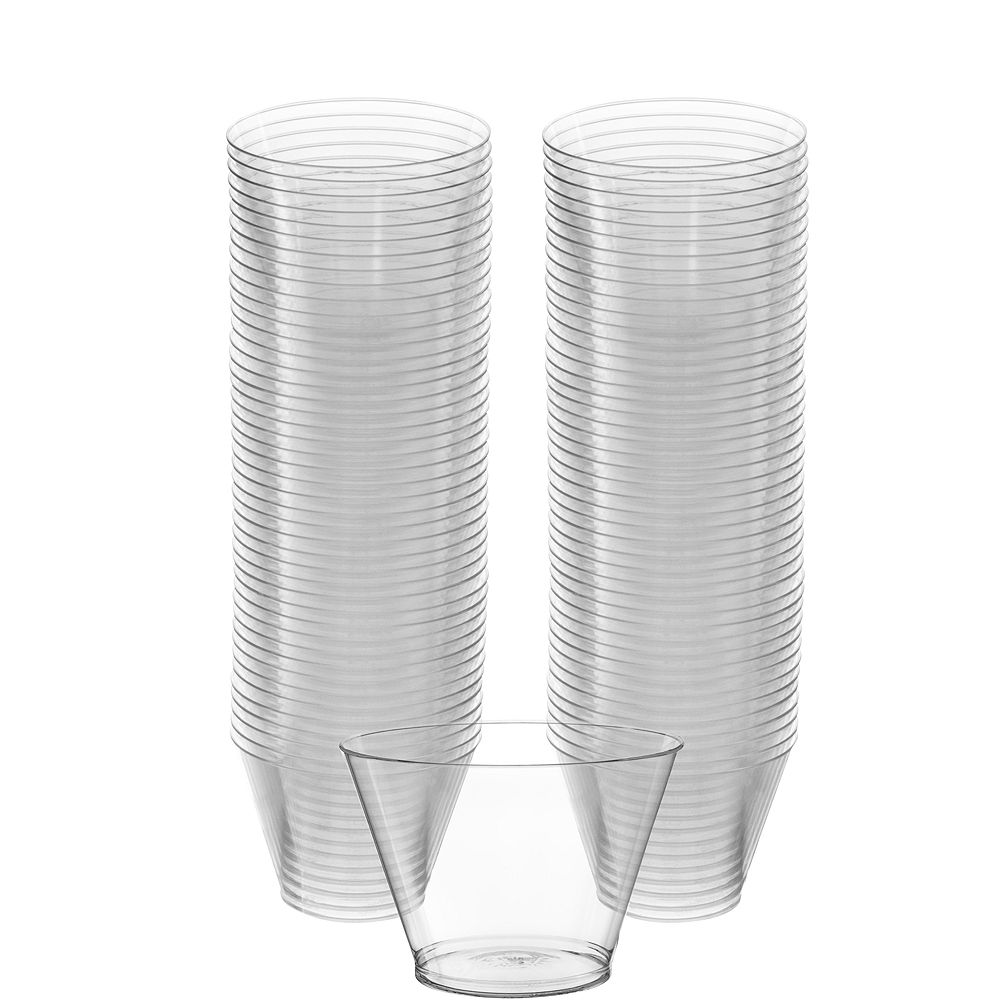plastic_glass: (297, 640, 770, 1000)
